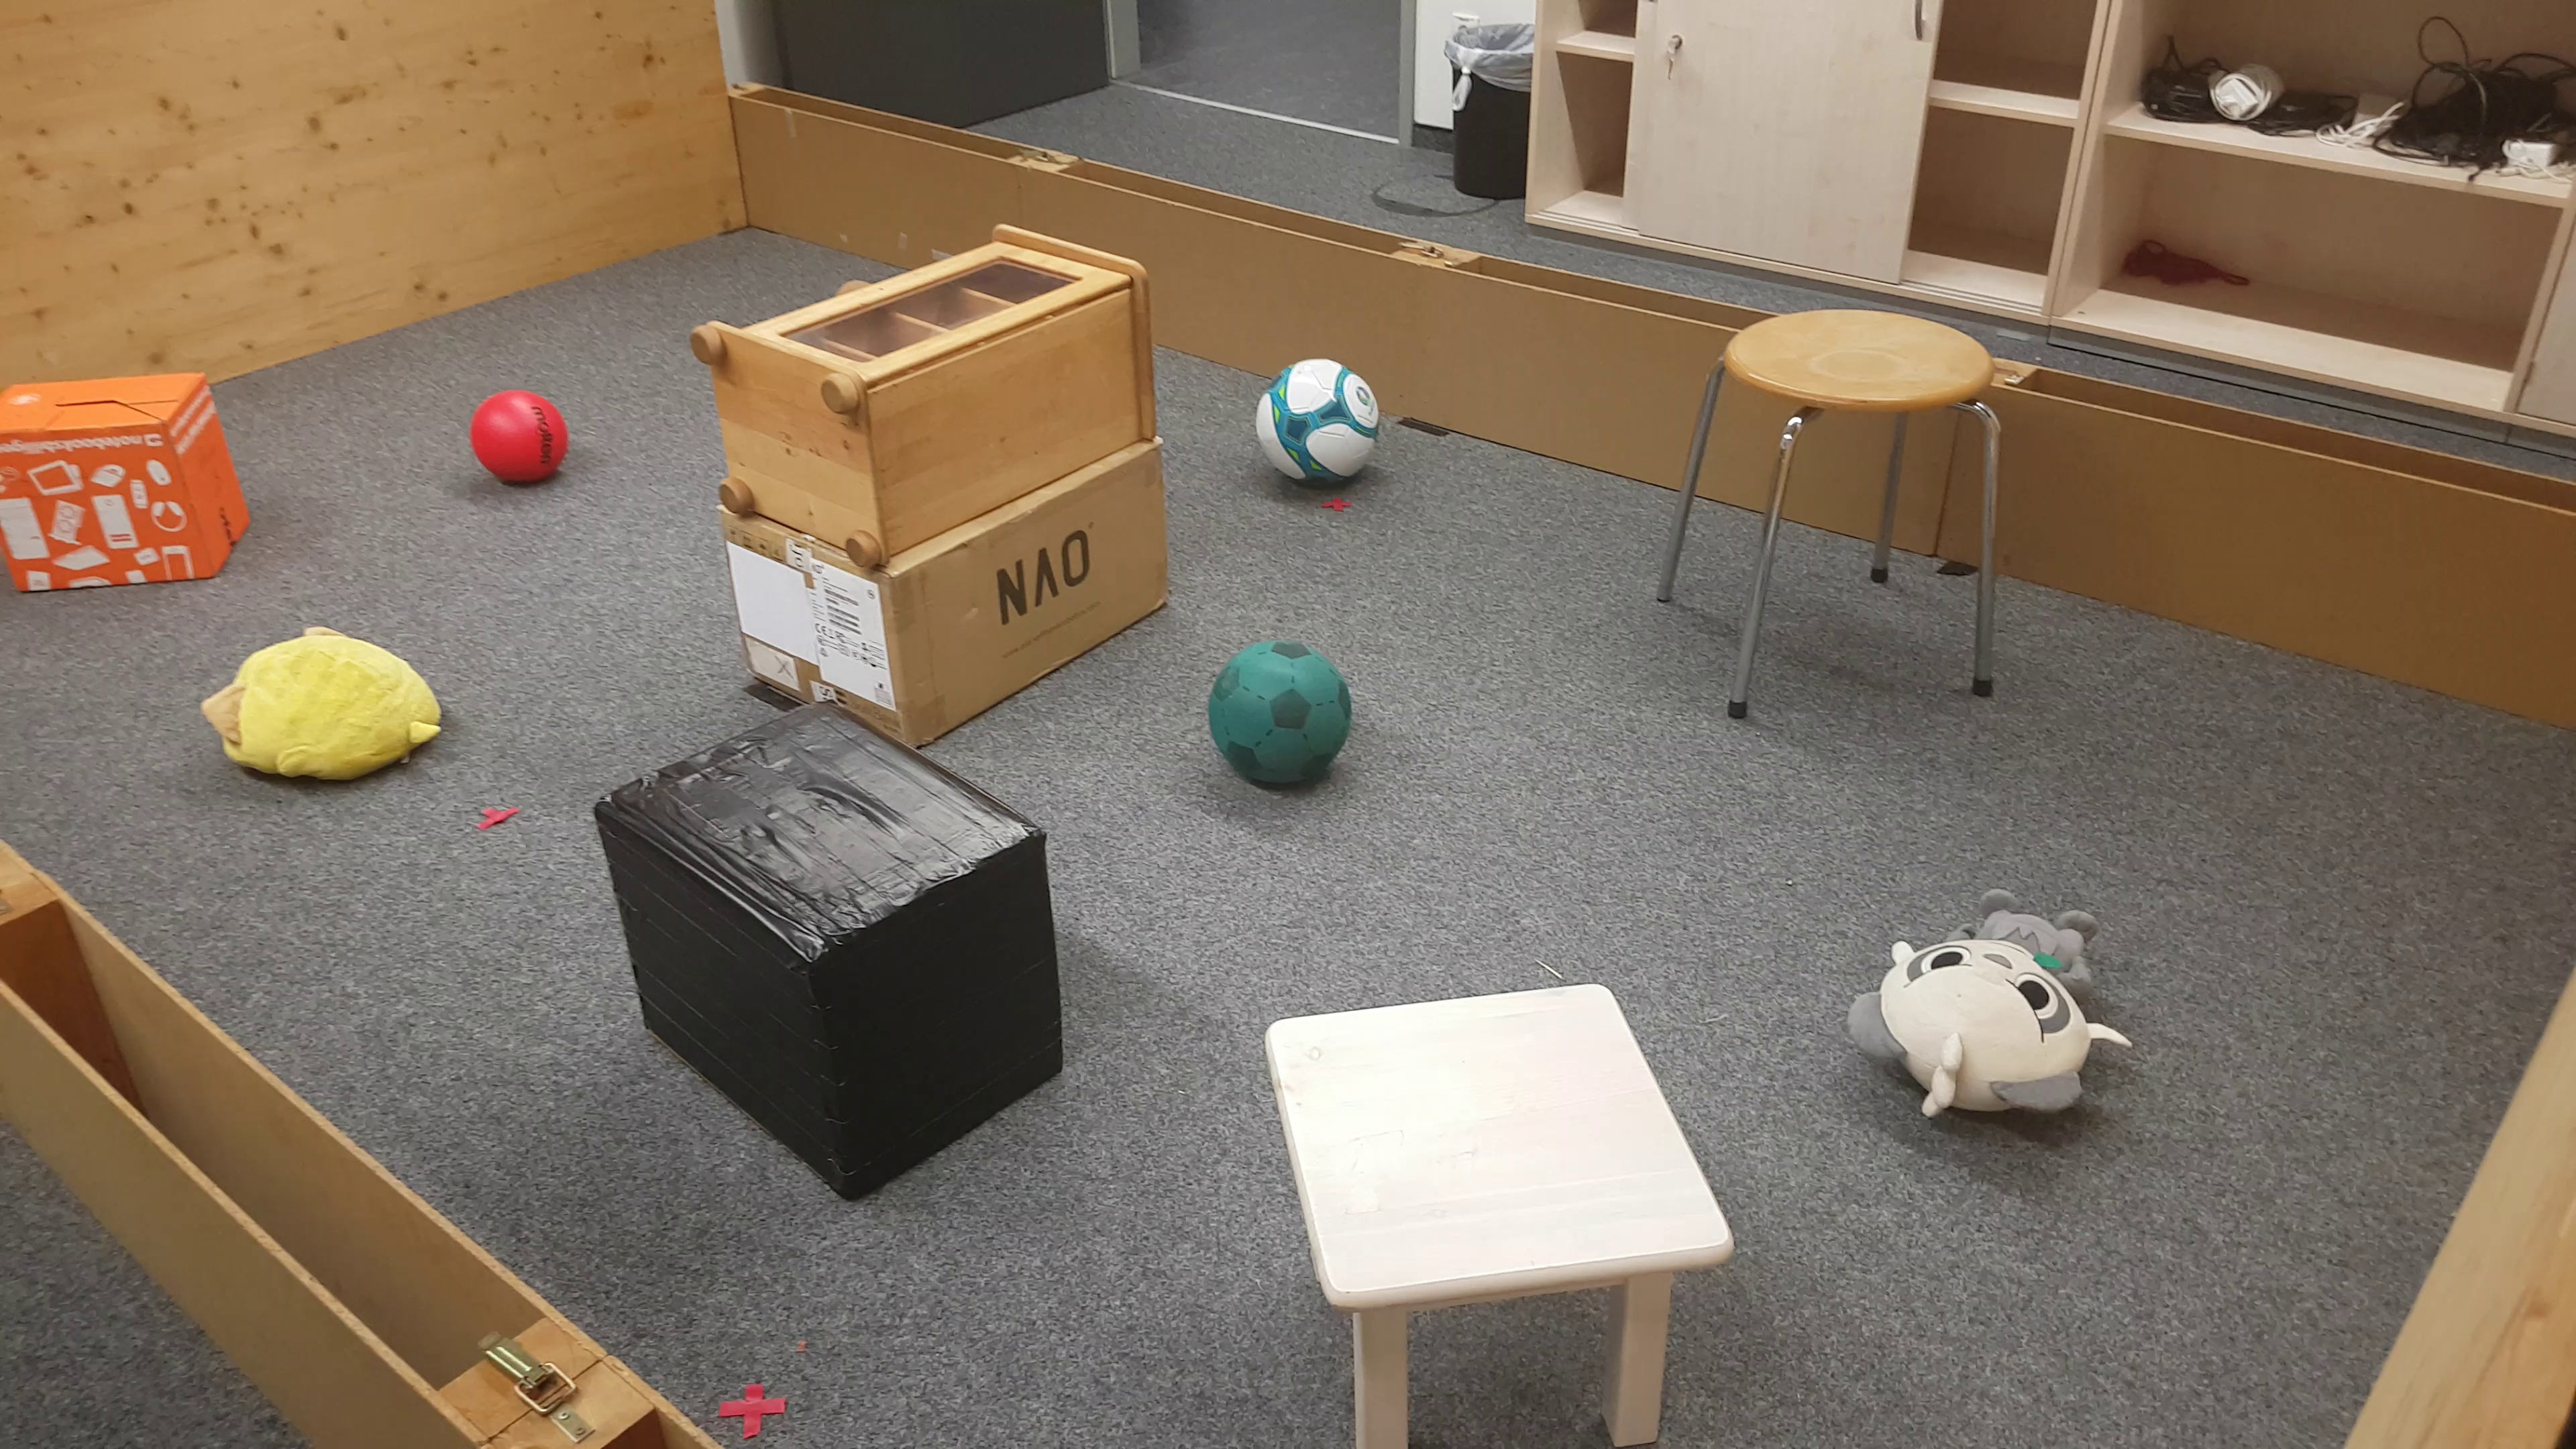grasp: (1835, 878, 2141, 1127), (211, 619, 449, 791)
kick: (1205, 635, 1355, 794), (1254, 356, 1382, 492), (474, 393, 575, 488)
push: (593, 686, 1070, 1196), (0, 382, 253, 598)
